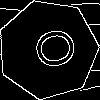O: (23, 24, 79, 75)
